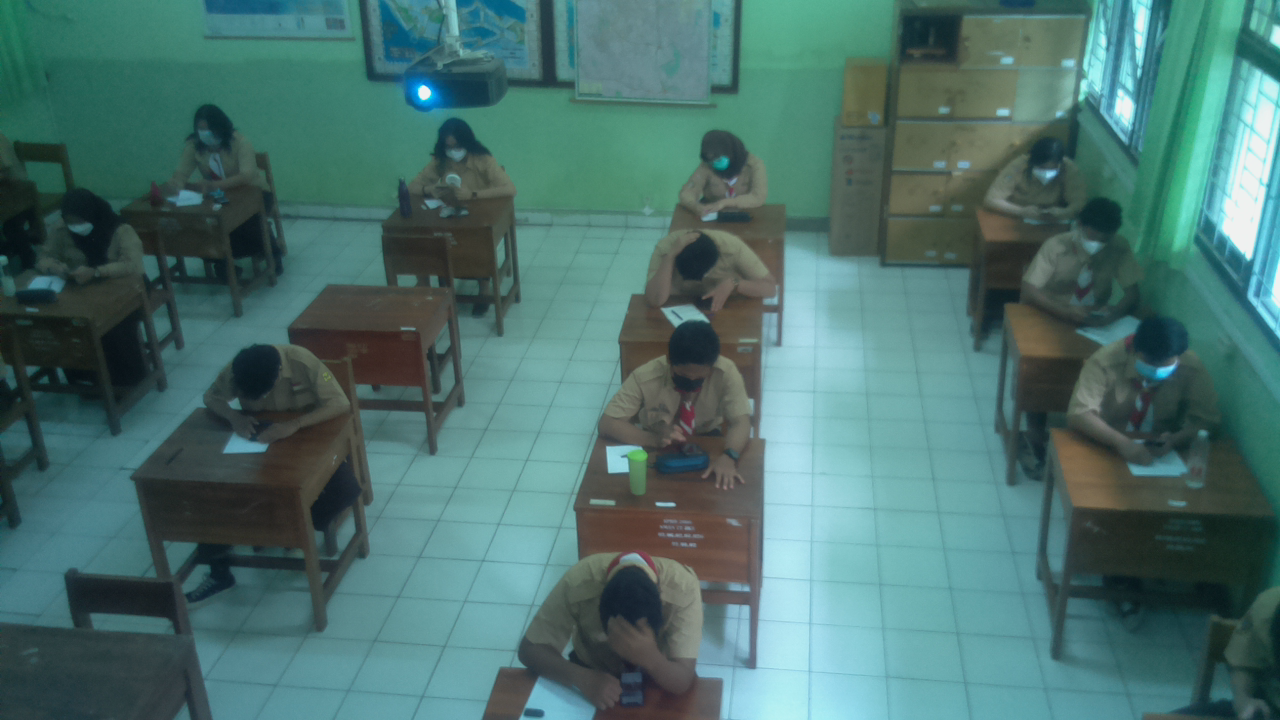Student: (557, 547, 699, 671), (1085, 310, 1210, 435), (627, 321, 742, 437), (1035, 197, 1137, 305), (45, 184, 132, 281), (213, 343, 332, 411), (411, 119, 507, 202), (991, 135, 1087, 217), (655, 225, 761, 297), (179, 103, 260, 192), (687, 131, 765, 204)
